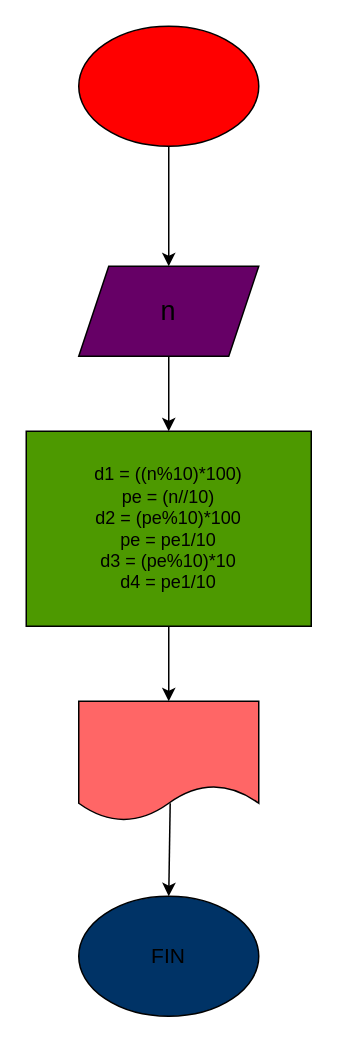
The diagram is 338 pixels wide and 1043 high, and some of its shapes have lost their labels. The box of each missing label's shape, as (x1, y1, x2, y2) in pixels:
INICIO: (77, 25, 259, 146)
ni: (77, 700, 259, 821)
